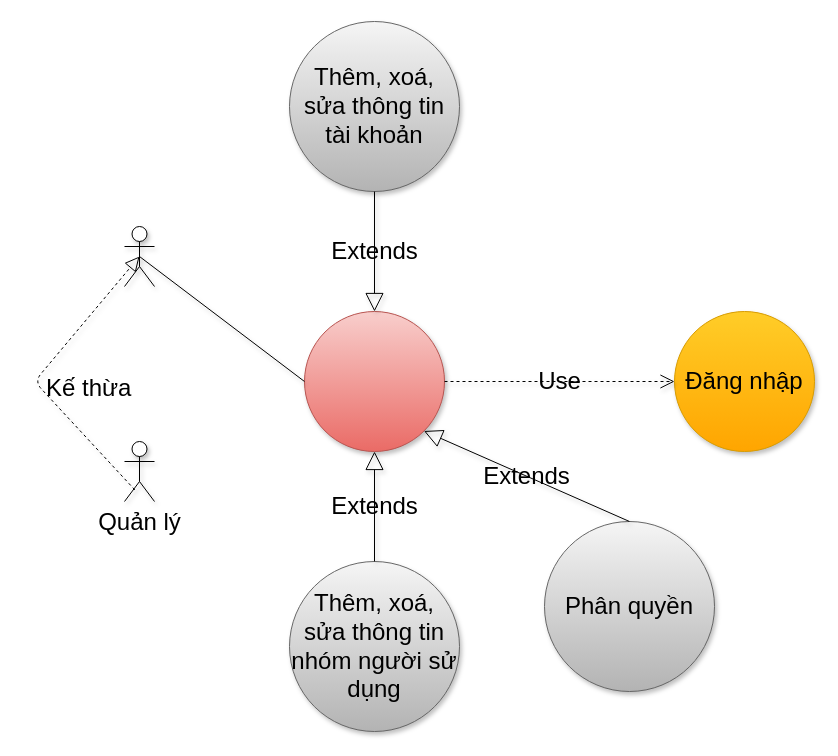
Image size: 838x756. Some labels were removed from this diagram. Here are the shapes that lost their labels. From the top down, the centre of each, then its label:
At [140,258]: "Chủ trọ".
At [375,382]: "Quản lý thông tin Người sử dụng".
